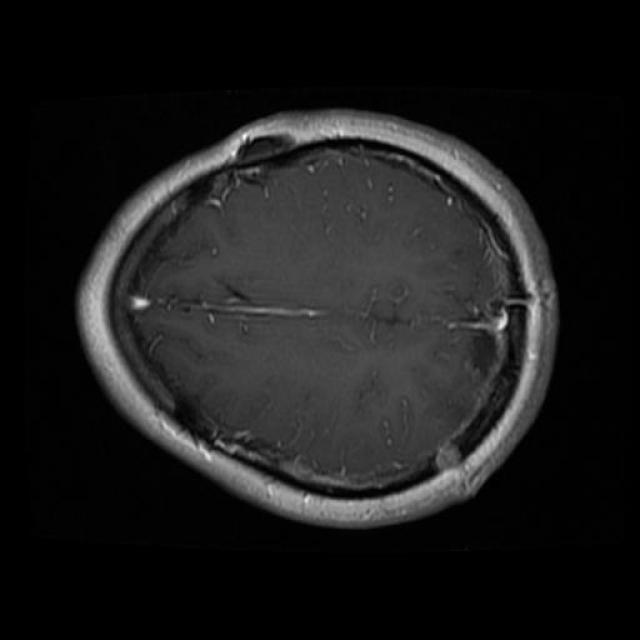Glioma: (455, 302, 506, 413)
